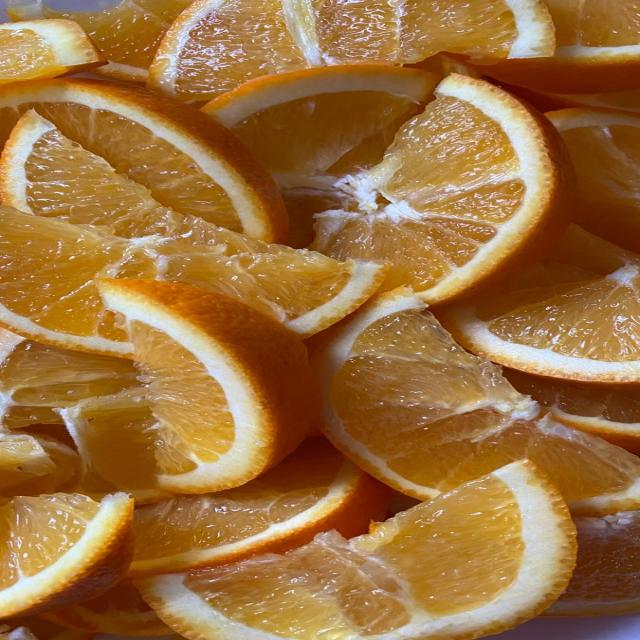orange: (0, 111, 384, 353), (136, 462, 575, 639), (314, 288, 639, 514), (312, 75, 572, 303), (0, 207, 384, 356), (99, 280, 318, 493), (0, 79, 286, 241), (202, 65, 446, 246), (149, 0, 554, 100), (128, 439, 388, 577), (439, 260, 639, 383), (0, 493, 132, 618), (7, 0, 191, 82), (478, 0, 639, 93), (0, 330, 138, 428), (548, 108, 639, 251), (505, 370, 639, 453), (545, 511, 639, 616), (44, 581, 171, 636), (0, 20, 106, 84), (0, 431, 80, 503), (501, 84, 639, 113), (0, 429, 54, 492), (0, 616, 93, 639)
